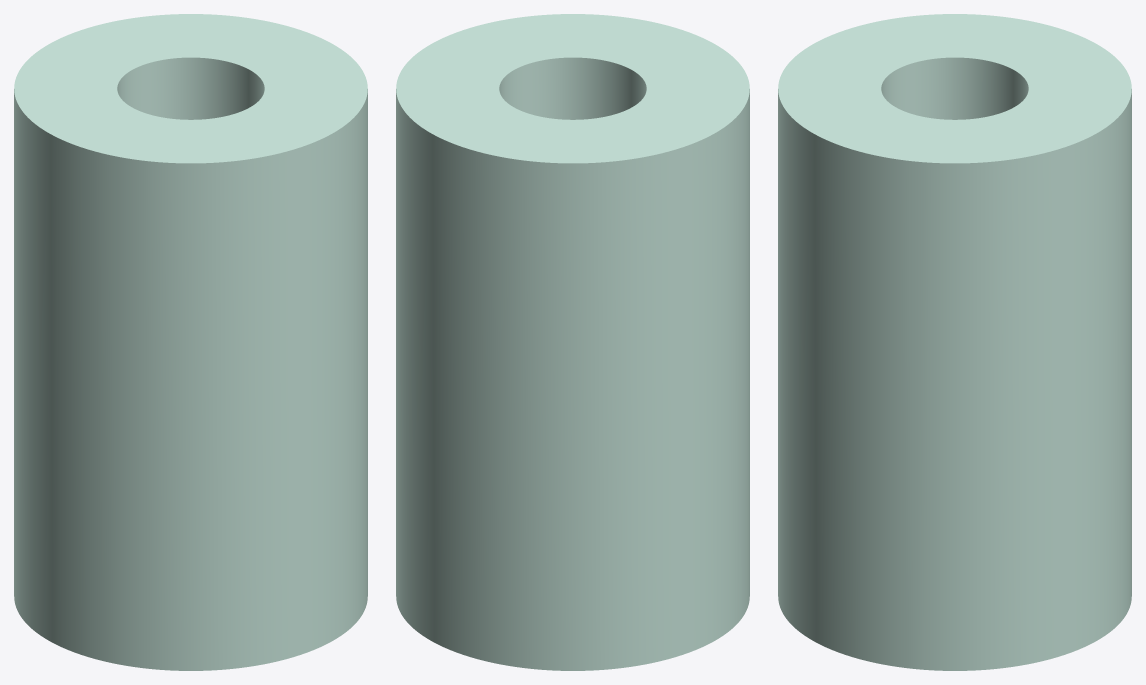
The picture shows the model from 3 angles, left to right: view 1: azimuth 30°, elevation 25°; view 2: azimuth 150°, elevation 25°; view 3: azimuth 270°, elevation 25°; orthographic projection.
Parts seen in each view (by area): view 1: Renderer Node; view 2: Renderer Node; view 3: Renderer Node.
Boxes of the visible parts, box(x1,y1,x2,y2) form: Renderer Node: box(14, 14, 367, 670); Renderer Node: box(396, 14, 749, 670); Renderer Node: box(778, 14, 1131, 670).
Bounding box in the file's own units: 0.4735 × 0.75 × 0.4737.
